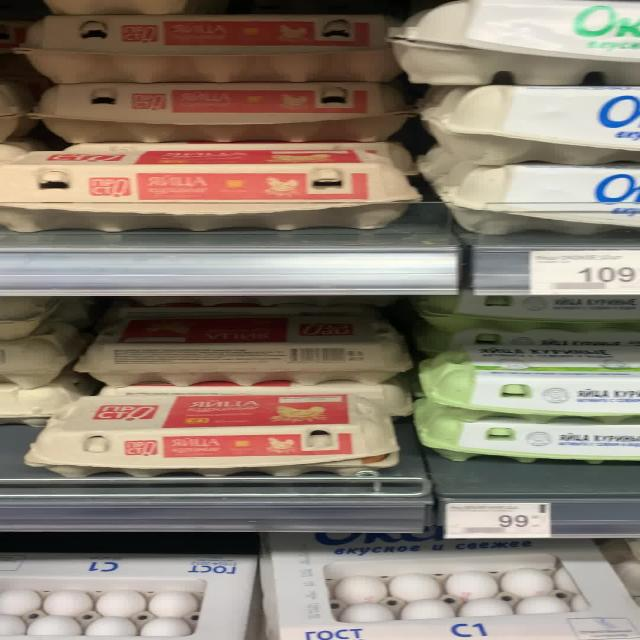egg box: (5, 136, 421, 233), (19, 389, 405, 480), (5, 9, 409, 89), (70, 304, 419, 389), (23, 75, 420, 146), (384, 1, 635, 92), (414, 73, 638, 170), (422, 338, 638, 424), (426, 152, 634, 240), (410, 392, 634, 465), (404, 295, 634, 337)
